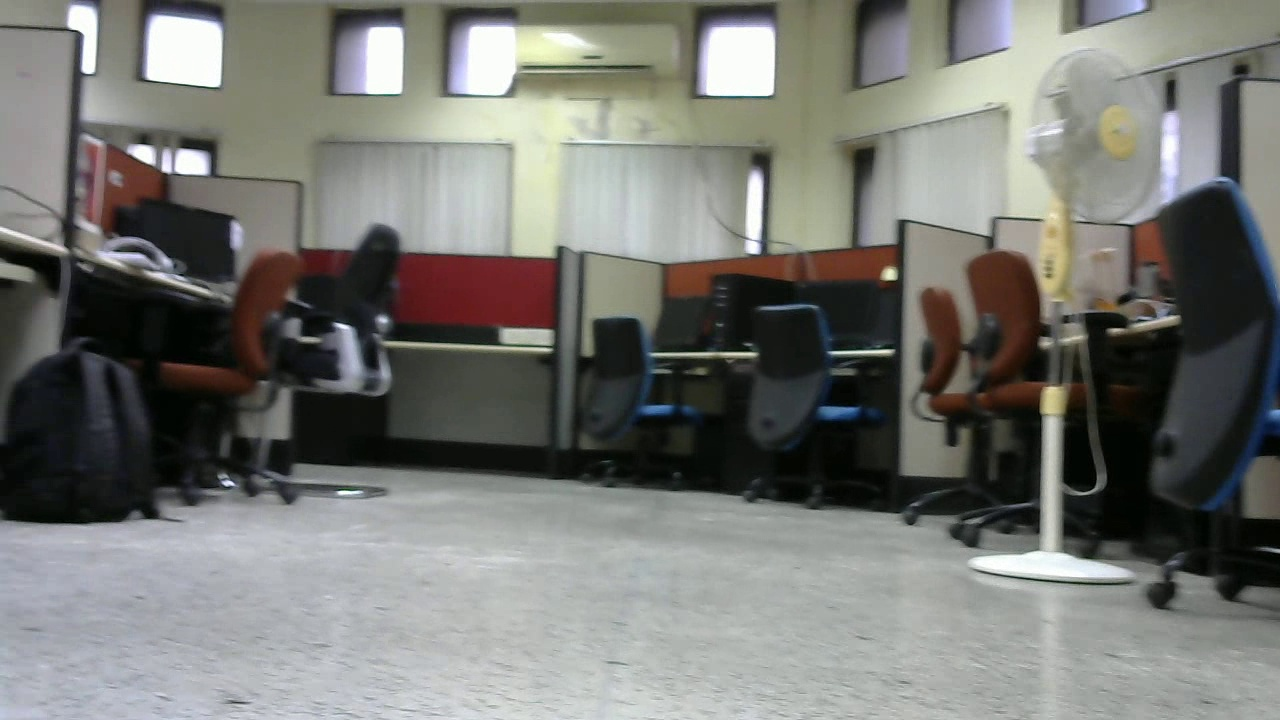chair: (902, 252, 1124, 548), (138, 244, 283, 509), (279, 214, 404, 506), (731, 299, 890, 499), (577, 320, 718, 499)
